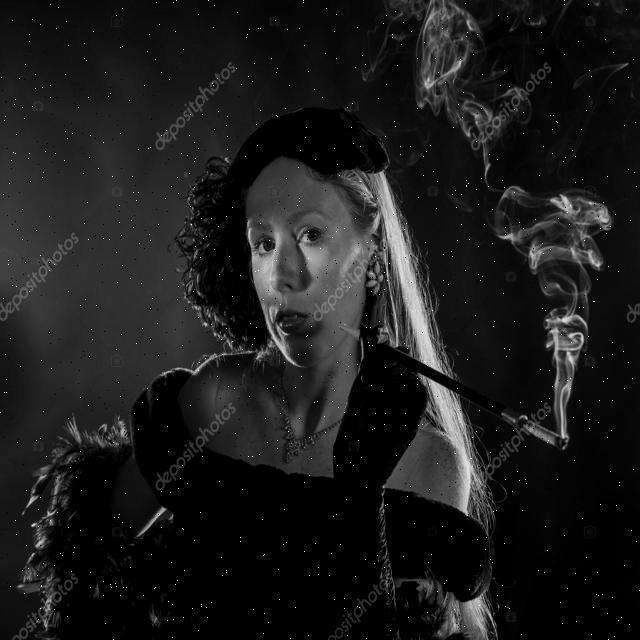smoke: (414, 0, 631, 439)
